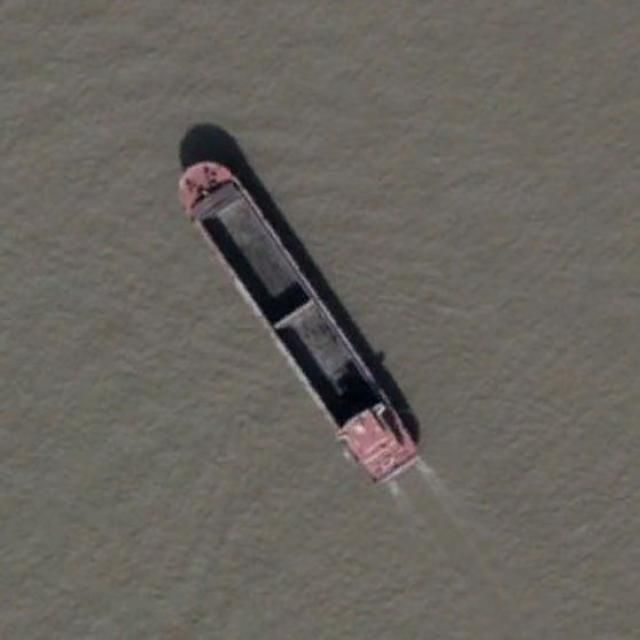boat: (172, 154, 420, 485)
